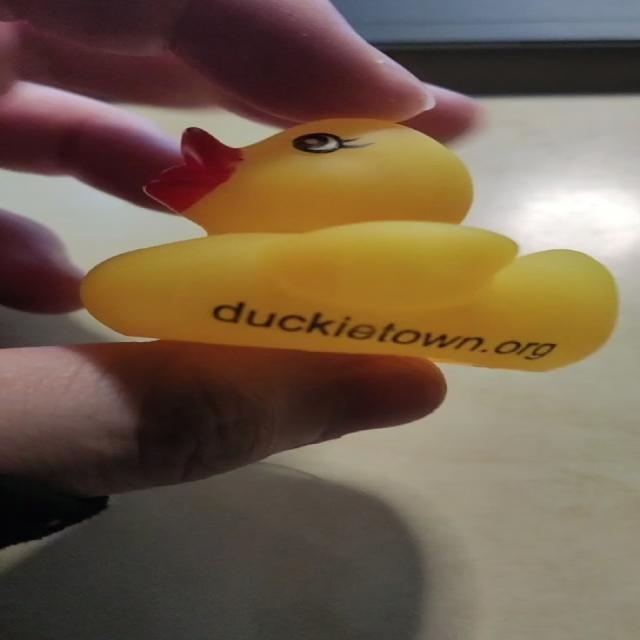rubber-duck: (81, 117, 616, 369)
